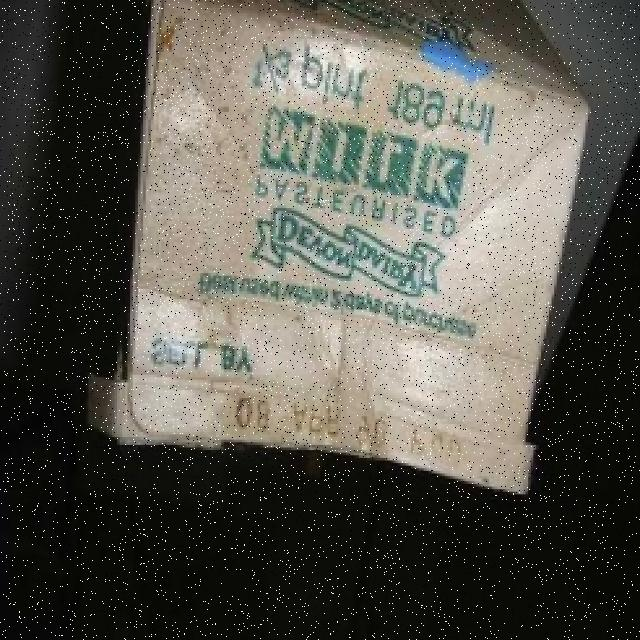box: (81, 0, 598, 458)
